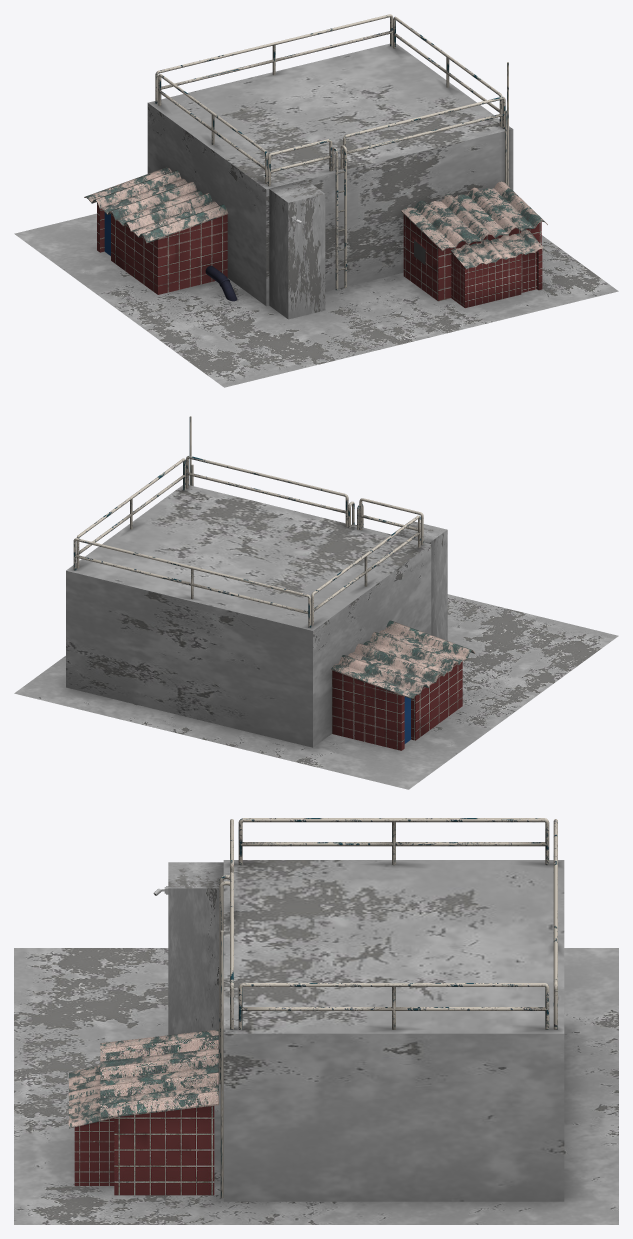
Rendered from edificio.glb.
3 renders of one model, top to bottom at view 1: azimuth 30°, elevation 25°; view 2: azimuth 150°, elevation 25°; view 3: azimuth 270°, elevation 25°, orthographic. The views are drawn at different scales.
Visible parts, largest first — view 1: Mesh_0; view 2: Mesh_0; view 3: Mesh_0.
Boxes of the visible parts, x1,y1,x2,y2 form: Mesh_0: [14, 14, 618, 387]; Mesh_0: [14, 416, 618, 789]; Mesh_0: [14, 818, 618, 1224].
Bounding box in the file's own units: 21.28 × 9.92 × 19.64.
10 materials, 9 textured.
